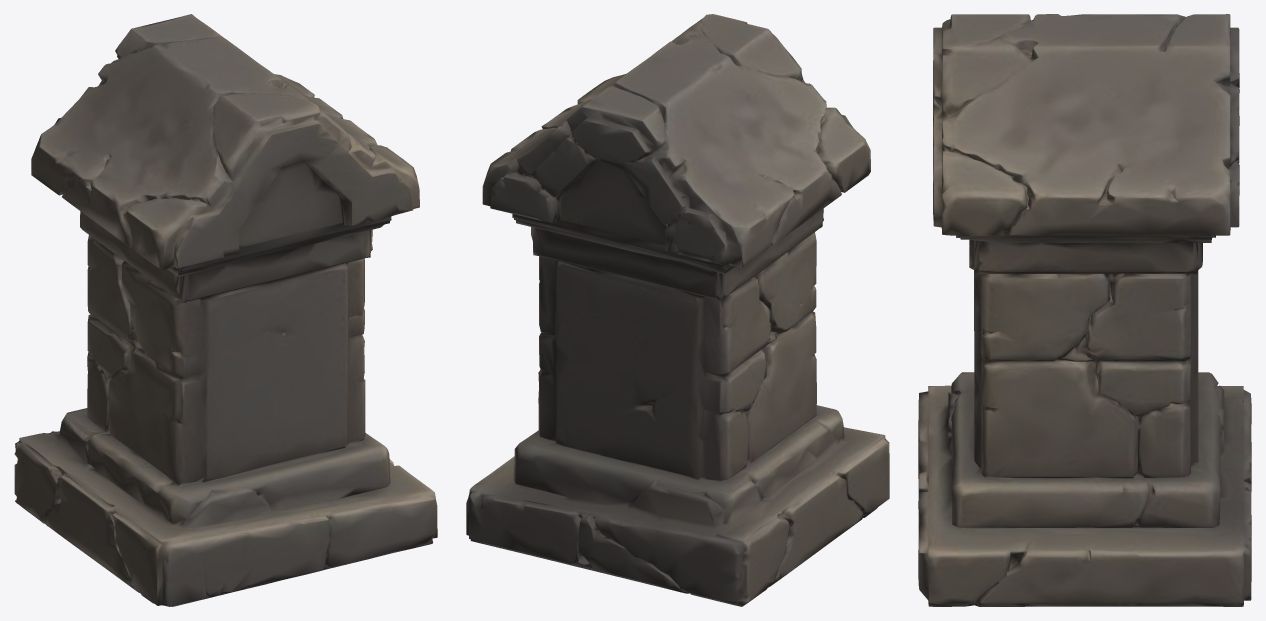
Rendered from pillar.glb.
The picture shows the model from 3 angles, left to right: view 1: azimuth 30°, elevation 25°; view 2: azimuth 150°, elevation 25°; view 3: azimuth 270°, elevation 25°; orthographic projection. The views are drawn at different scales.
Parts seen in each view (by area): view 1: tripo_node_75548c37-53de-4cd5-81a0-31c9f52302b5; view 2: tripo_node_75548c37-53de-4cd5-81a0-31c9f52302b5; view 3: tripo_node_75548c37-53de-4cd5-81a0-31c9f52302b5.
Part boxes in pixels (<box>): tripo_node_75548c37-53de-4cd5-81a0-31c9f52302b5: <box>14,14,437,606</box>; tripo_node_75548c37-53de-4cd5-81a0-31c9f52302b5: <box>466,14,889,606</box>; tripo_node_75548c37-53de-4cd5-81a0-31c9f52302b5: <box>918,14,1251,606</box>.
Bounding box in the file's own units: 0.6452 × 1 × 0.5991.
1 material, 1 textured.
